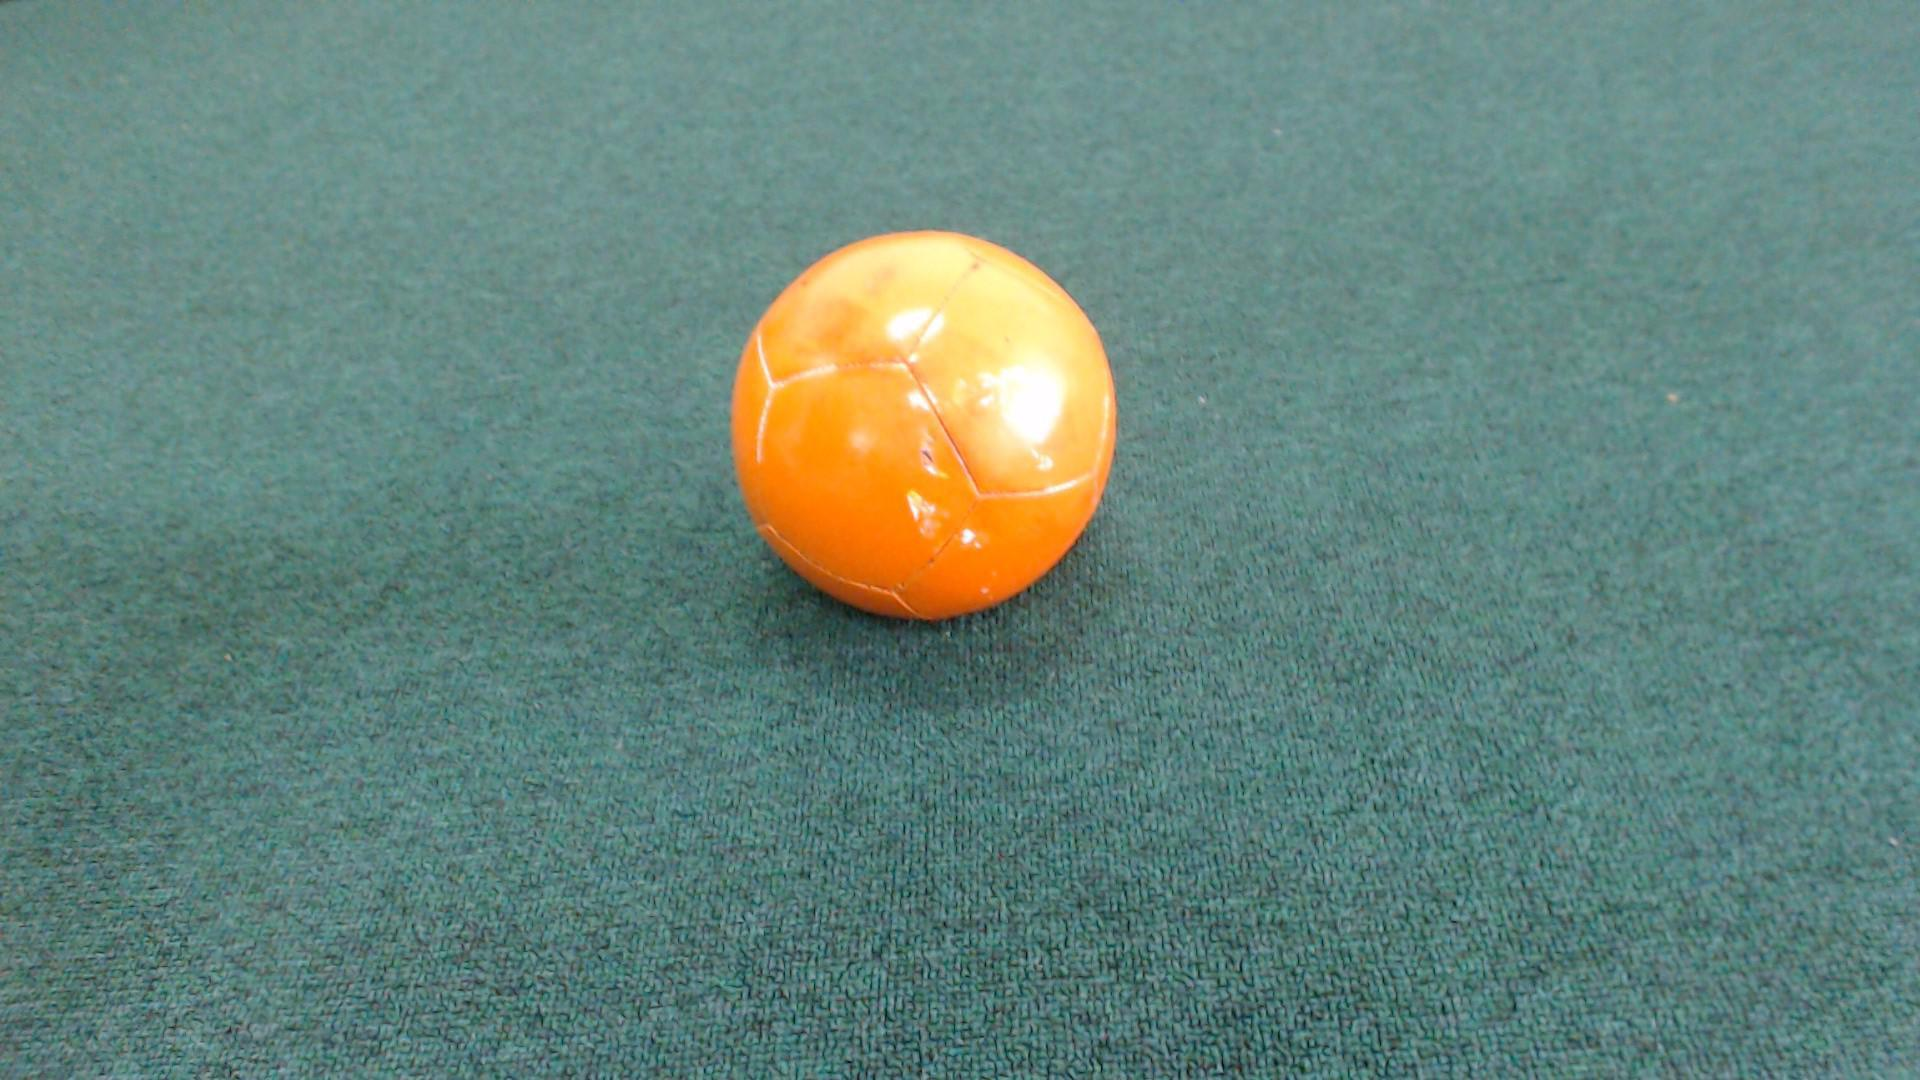bola: (712, 229, 1127, 636)
